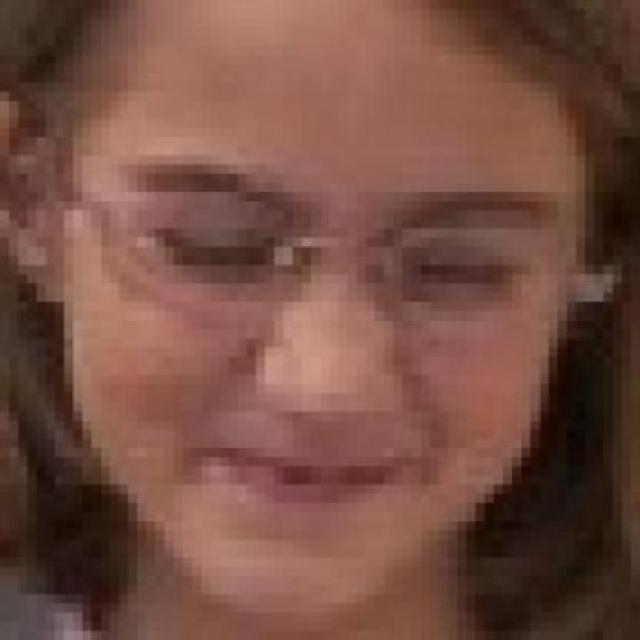drowsy: (164, 221, 271, 287), (414, 242, 504, 304)
